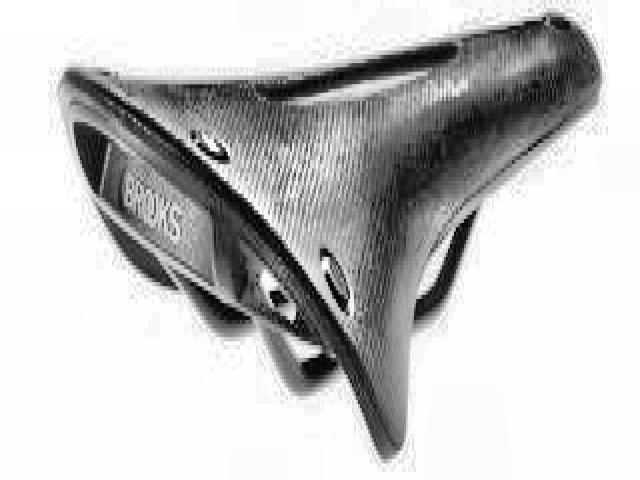saddle: (55, 7, 602, 466)
